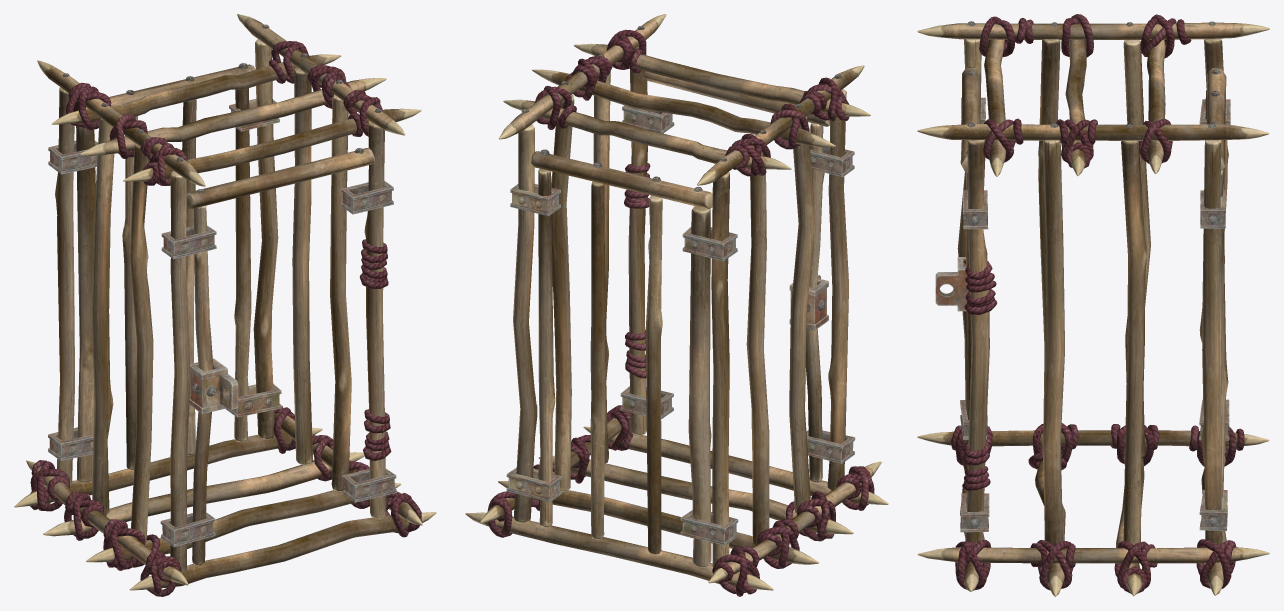
3 renders of one model, left to right at view 1: azimuth 30°, elevation 25°; view 2: azimuth 150°, elevation 25°; view 3: azimuth 270°, elevation 25°, orthographic. The views are drawn at different scales.
Visible parts, largest first — view 1: SM_Gobliin_Cage_01_LOD0; view 2: SM_Gobliin_Cage_01_LOD0; view 3: SM_Gobliin_Cage_01_LOD0.
Part boxes in pixels (x1,y1,x2,y2): SM_Gobliin_Cage_01_LOD0: (14,14,436,596); SM_Gobliin_Cage_01_LOD0: (465,14,888,596); SM_Gobliin_Cage_01_LOD0: (917,14,1269,596).
Bounding box in the file's own units: 1.97 × 2.55 × 1.77.
Materials: 2 (2 with a texture image).
